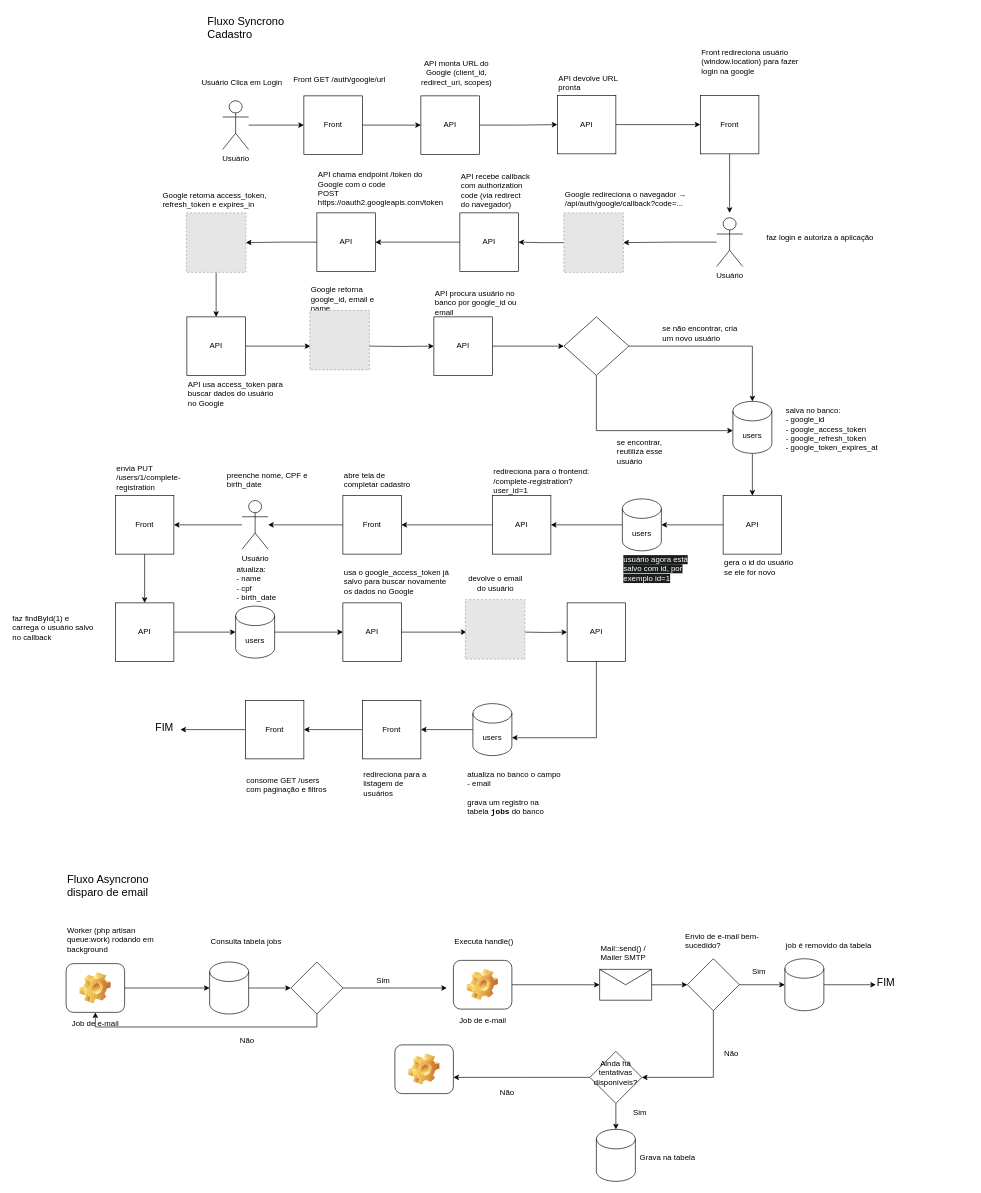
The diagram is 981 pixels wide and 1193 high, and some of its shapes have lost their labels. Grey dashed boxes stand in for pictures. Here are the shapes that lost their labels. From the top down, the centre of each, then its label:
pixel 596 345: Existe ?
pixel 229 987: Banco
pixel 316 987: Existe jobs ?
pixel 804 984: Jobs
pixel 423 1069: volta para fila (jobs)
pixel 615 1155: failed_jobs
